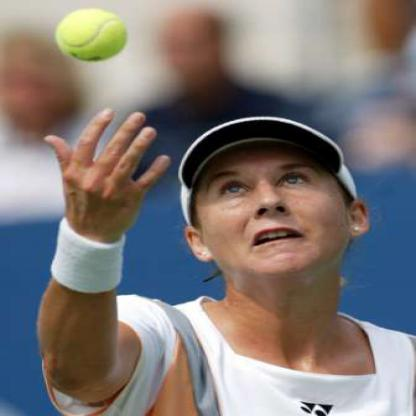face: (190, 124, 353, 285), (1, 44, 68, 126), (164, 10, 227, 79)
